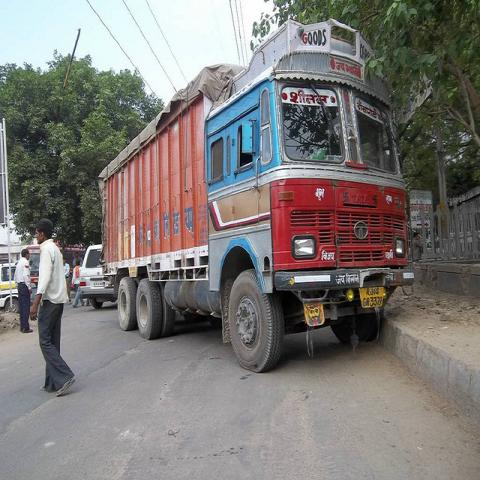car: (78, 244, 113, 310), (0, 263, 18, 313)
truck: (95, 19, 416, 376)
